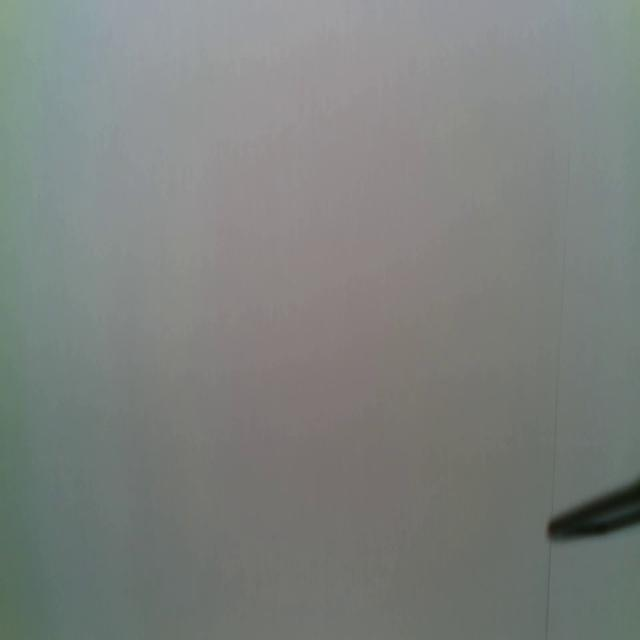crease: (550, 63, 575, 503), (545, 542, 554, 640)
